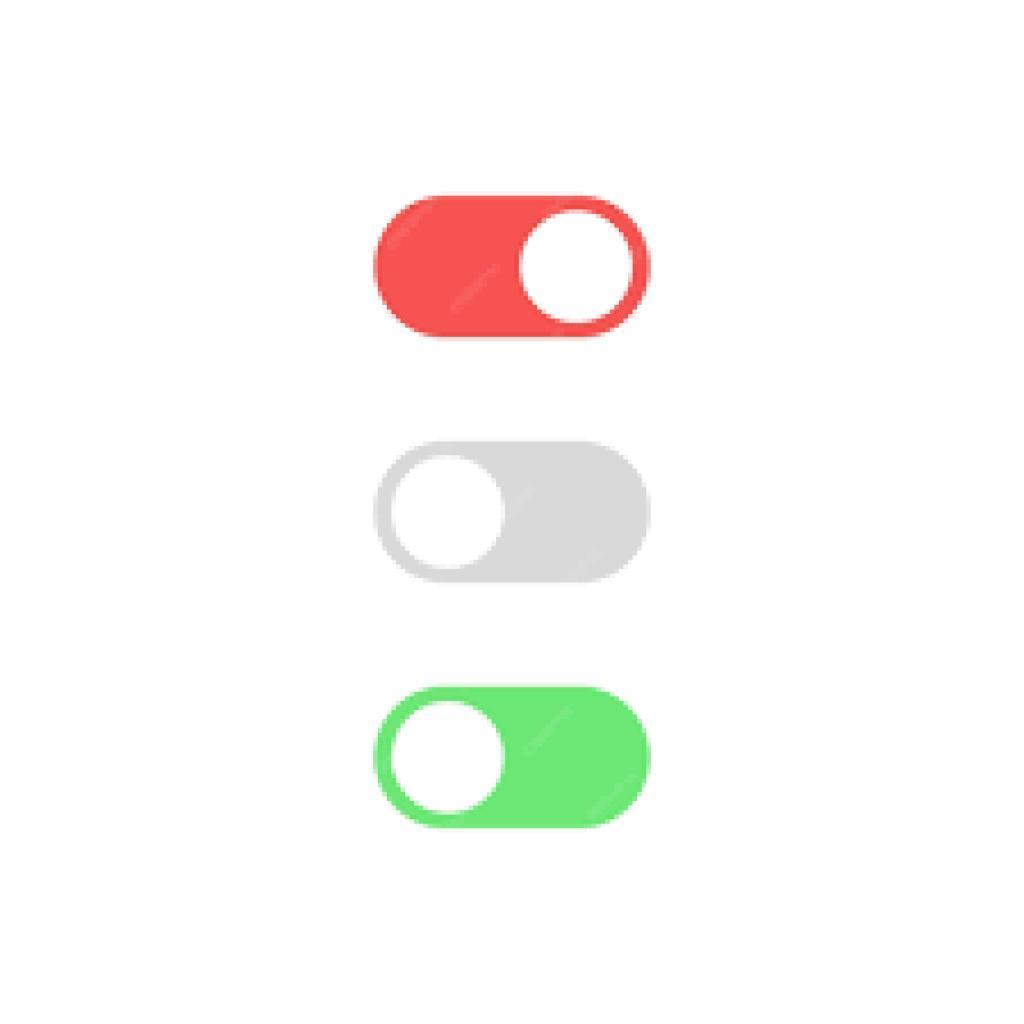switch: (372, 195, 653, 340), (374, 687, 653, 830), (375, 441, 651, 585)
